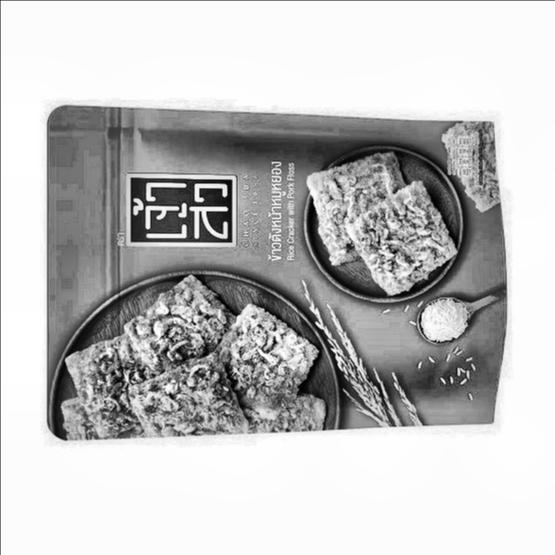snackbag: (28, 69, 531, 457)
